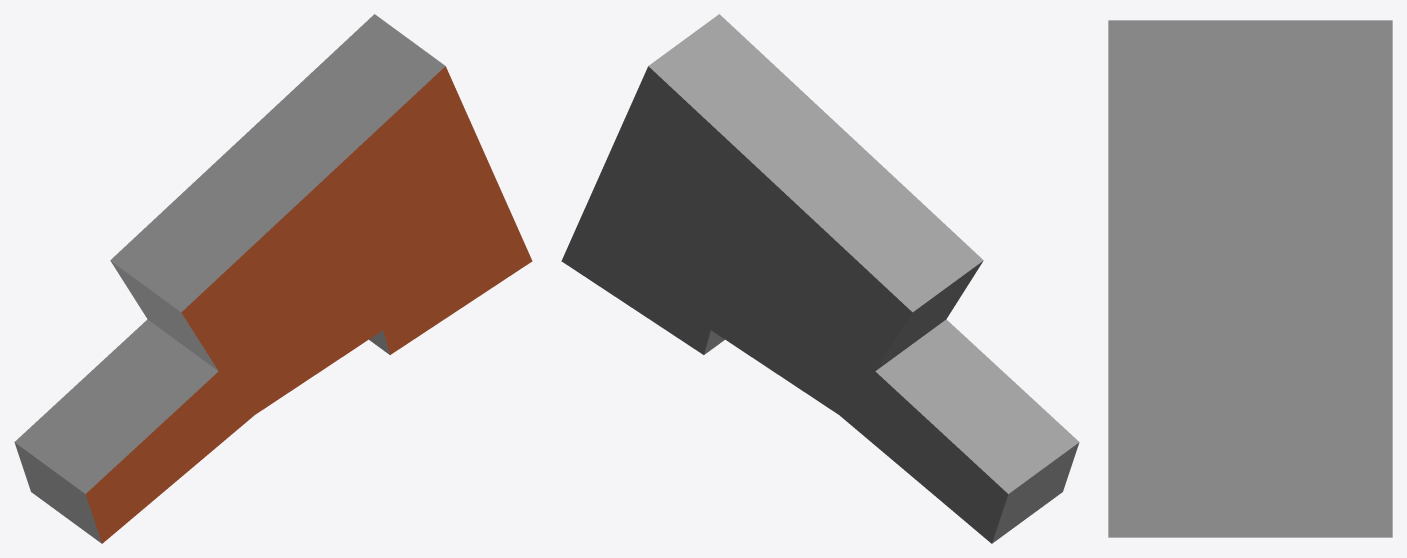
The model's file is construction_6812_assumed_A_Casa_h6m.obj.
The picture shows the model from 3 angles, left to right: view 1: azimuth 30°, elevation 25°; view 2: azimuth 150°, elevation 25°; view 3: azimuth 270°, elevation 25°; orthographic projection. The views are drawn at different scales.
Parts seen in each view (by area): view 1: construction_6812_assumed_A_Casa; view 2: construction_6812_assumed_A_Casa; view 3: construction_6812_assumed_A_Casa.
Boxes of the visible parts, bbox=[...] form: construction_6812_assumed_A_Casa: bbox=[14, 14, 532, 543]; construction_6812_assumed_A_Casa: bbox=[561, 14, 1079, 543]; construction_6812_assumed_A_Casa: bbox=[1108, 20, 1392, 537].
Bounding box in the file's own units: 21.77 × 18.34 × 6.
